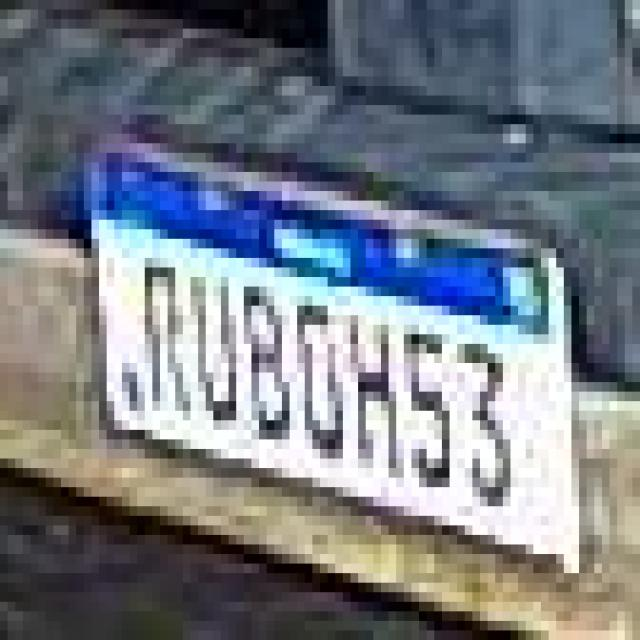0: (287, 296, 342, 467)
3: (460, 328, 528, 519)
5: (400, 310, 457, 507)
B: (244, 272, 300, 443)
H: (342, 307, 404, 494)
R: (132, 259, 194, 406)
U: (189, 248, 240, 430)
